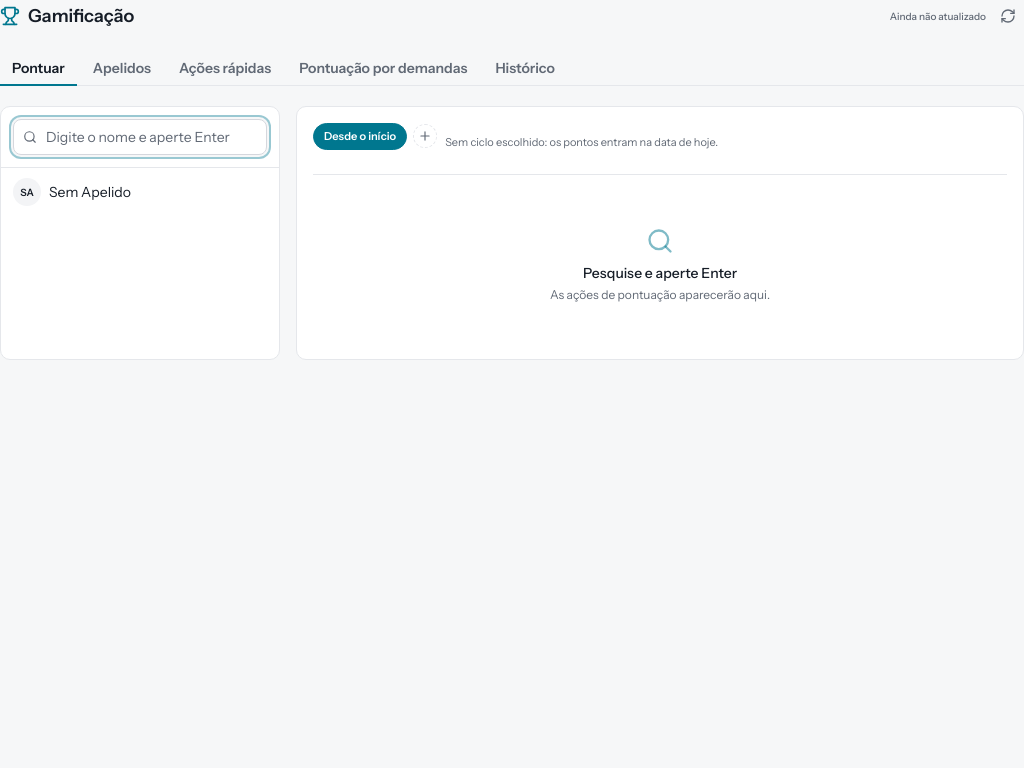
resetar apelidos em massa › área sem ninguém com apelido não deixa apagar
Click the button "Apelidos" at (122, 69), box [81,52,163,86]
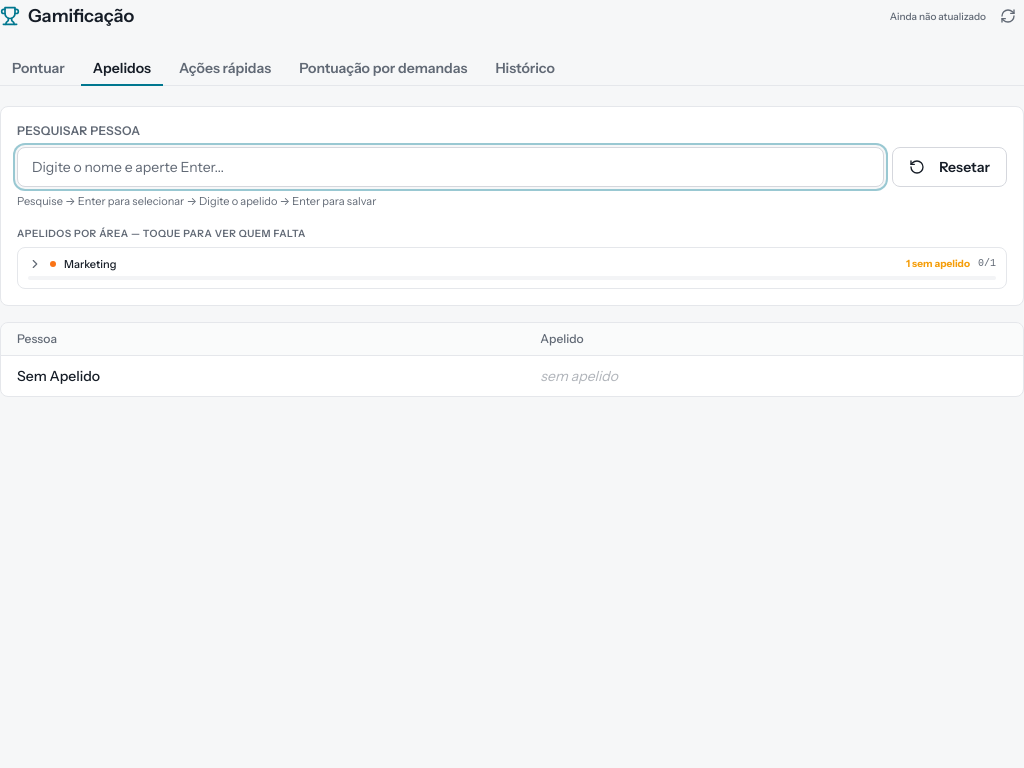
Click the button "Resetar" at (950, 167), box [892,147,1007,187]
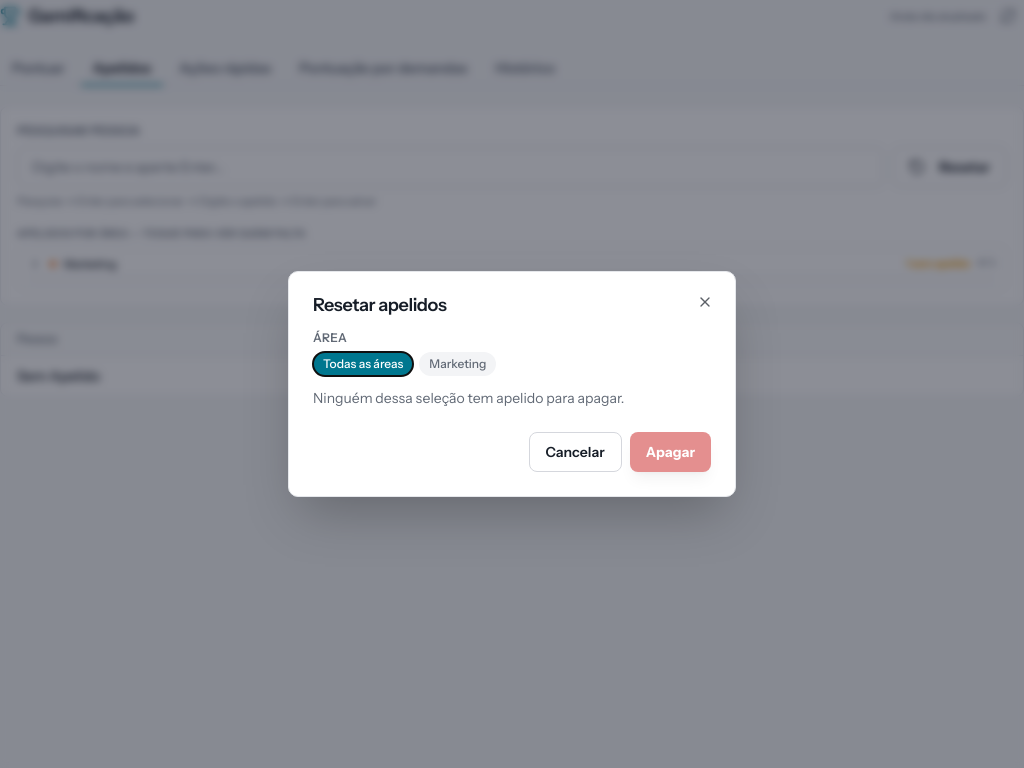
Now the text "Ninguém dessa seleção tem apelido para apagar." is shown, box [313,389,624,407]
Now the button "Apagar" is disabled, box [630,432,711,472]
